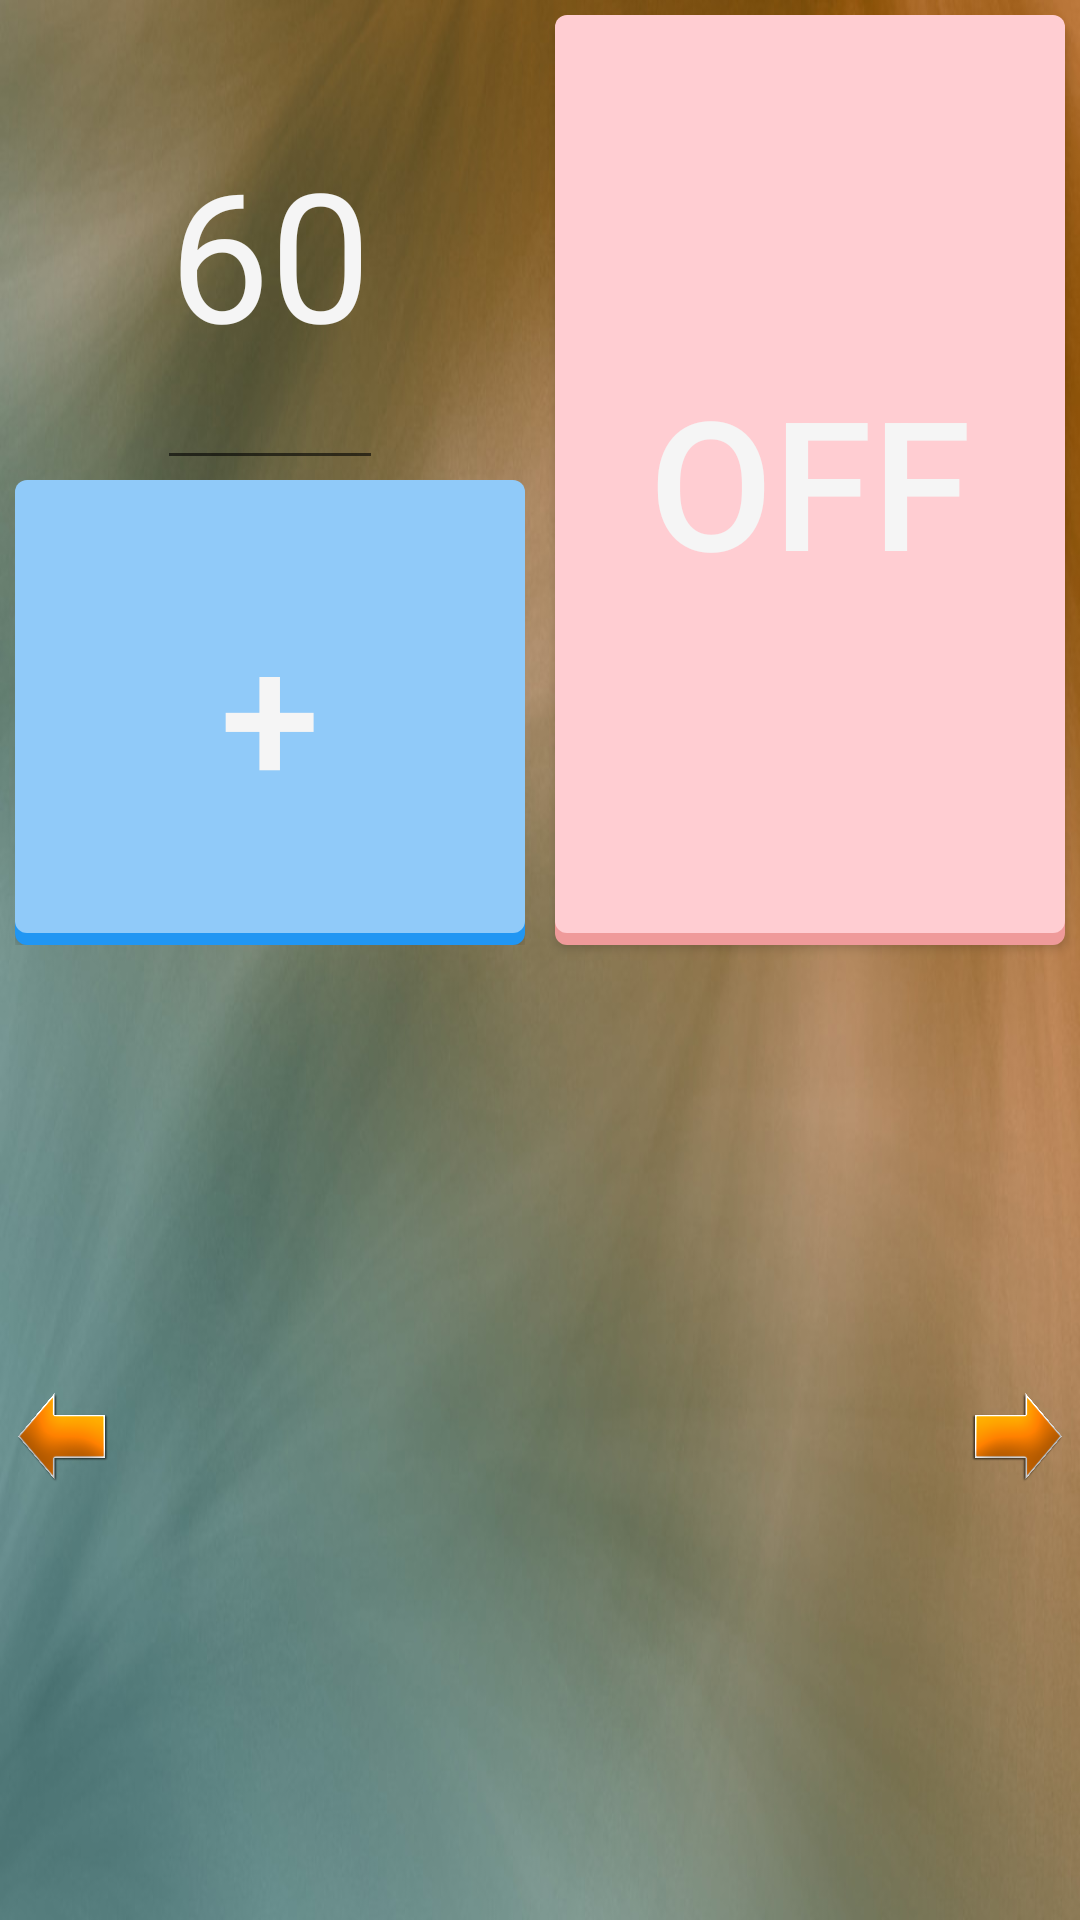

Named icons in this screenshot (1080 × 1920) and their bounding boxes, (left=x1, top=y1, right=x2, bottom=y2):
left: (left=18, top=1393, right=108, bottom=1480)
right: (left=972, top=1393, right=1062, bottom=1480)
